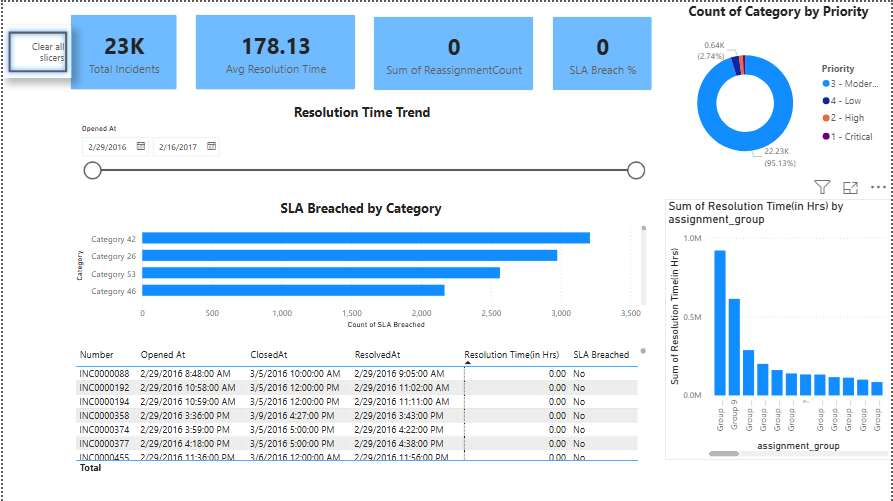

Layout of this report page (visuals, bound fields, positions):
{"tool":"powerbi","page":{"name":"Page 1","canvas":[1280,720],"ordinal":0},"visuals":[{"type":"cardVisual","fields":{"Data":["incident_event_log.Total Incidents"]},"box":[79.4,0,189.2,144.8],"z":0},{"type":"cardVisual","fields":{"Data":["incident_event_log.Avg Resolution Time"]},"box":[259.3,0,266.3,144.8],"z":1000},{"type":"cardVisual","fields":{"Data":["Sum(incident_event_log.ReassignmentCount)"]},"box":[516.2,2.3,266.3,142.5],"z":2000},{"type":"cardVisual","fields":{"Data":["incident_event_log.SLA Breach %"]},"box":[773.1,2.3,179.9,142.5],"z":3000},{"type":"actionButton","box":[0,35,100.4,74.7],"z":4000},{"type":"donutChart","fields":{"Category":["incident_event_log.Priority"],"Y":["CountNonNull(incident_event_log.Category)"]},"box":[953.3,0,326.9,266.4],"z":5000},{"type":"slicer","title":"Resolution Time Trend","fields":{"Values":["incident_event_log.Opened At"]},"box":[100.8,145.4,832.3,121],"z":6000},{"type":"clusteredBarChart","title":"SLA Breached by Category","fields":{"Category":["incident_event_log.Category"],"Y":["CountNonNull(incident_event_log.SLA Breached)"]},"box":[99.4,283.7,832.3,191.5],"z":7000},{"type":"tableEx","fields":{"Values":["incident_event_log.Number","incident_event_log.Opened At","incident_event_log.ClosedAt","incident_event_log.ResolvedAt","select","incident_event_log.Resolution Time(in Hrs)","select1","incident_event_log.SLA Breached"]},"box":[99,492,832,192],"z":8000},{"type":"clusteredColumnChart","fields":{"Category":["incident_event_log.assignment_group"],"Y":["Sum(incident_event_log.Resolution Time(in Hrs))"]},"box":[953.3,283.7,326.9,375.8],"z":9000}]}

Visuals, with their boxes in screenshot pixels (x1, y1, x2, y2), scaled from the page's 1280x720 canvas onto the 893x501 screenshot:
cardVisual - incident_event_log.Total Incidents: bbox=(55, 0, 187, 101)
cardVisual - incident_event_log.Avg Resolution Time: bbox=(181, 0, 367, 101)
cardVisual - Sum(incident_event_log.ReassignmentCount): bbox=(360, 2, 546, 101)
cardVisual - incident_event_log.SLA Breach %: bbox=(539, 2, 665, 101)
actionButton: bbox=(0, 24, 70, 76)
donutChart - incident_event_log.Priority x CountNonNull(incident_event_log.Category): bbox=(665, 0, 892, 185)
"Resolution Time Trend" slicer: bbox=(70, 101, 651, 185)
"SLA Breached by Category" clusteredBarChart: bbox=(69, 197, 650, 331)
tableEx - incident_event_log.Number x incident_event_log.Opened At: bbox=(69, 342, 650, 476)
clusteredColumnChart - incident_event_log.assignment_group x Sum(incident_event_log.Resolution Time(in Hrs)): bbox=(665, 197, 892, 459)
